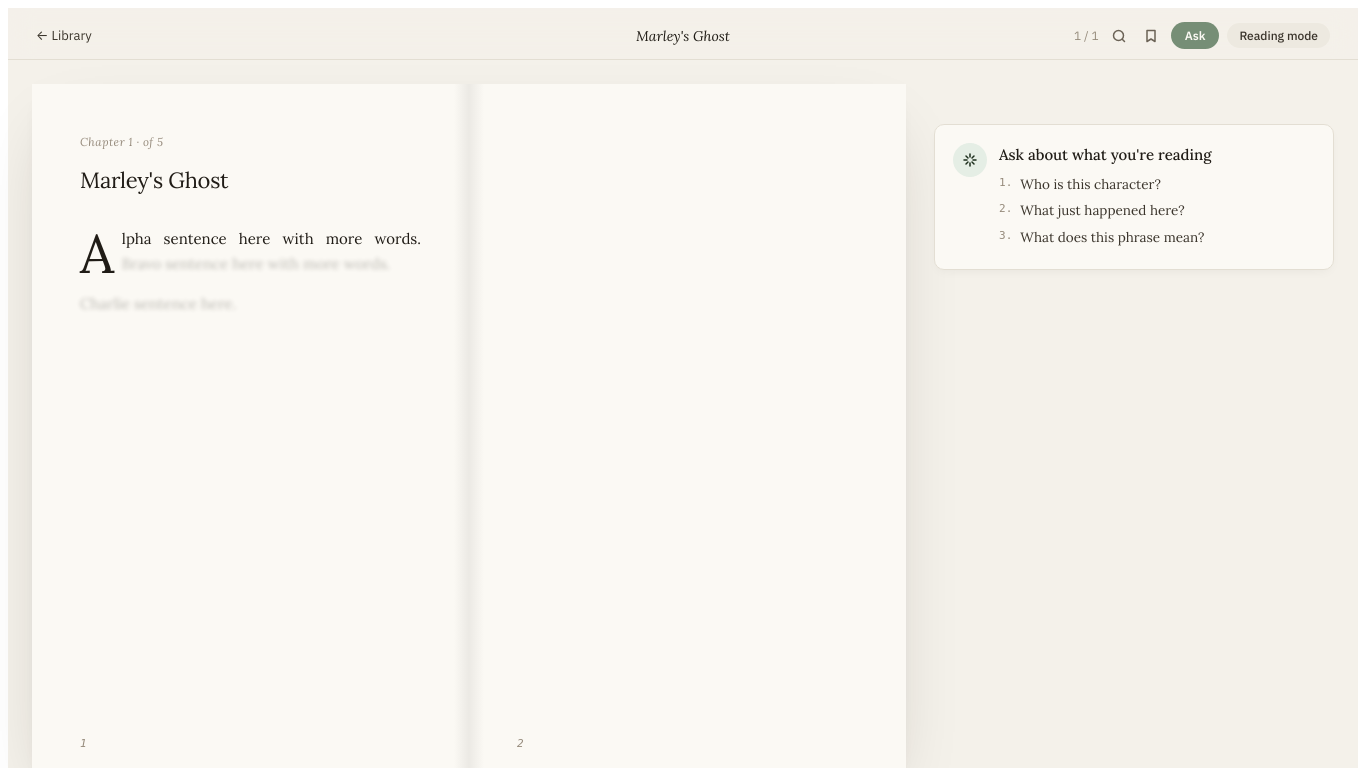
it: ReadingScreen — slice R4 reading mode integration › toggling off from on removes chrome and restores margin visibility
The width and height of the screenshot is (1366, 768).
Click the button "Reading mode": point(1279, 36) [1227,23,1330,48]
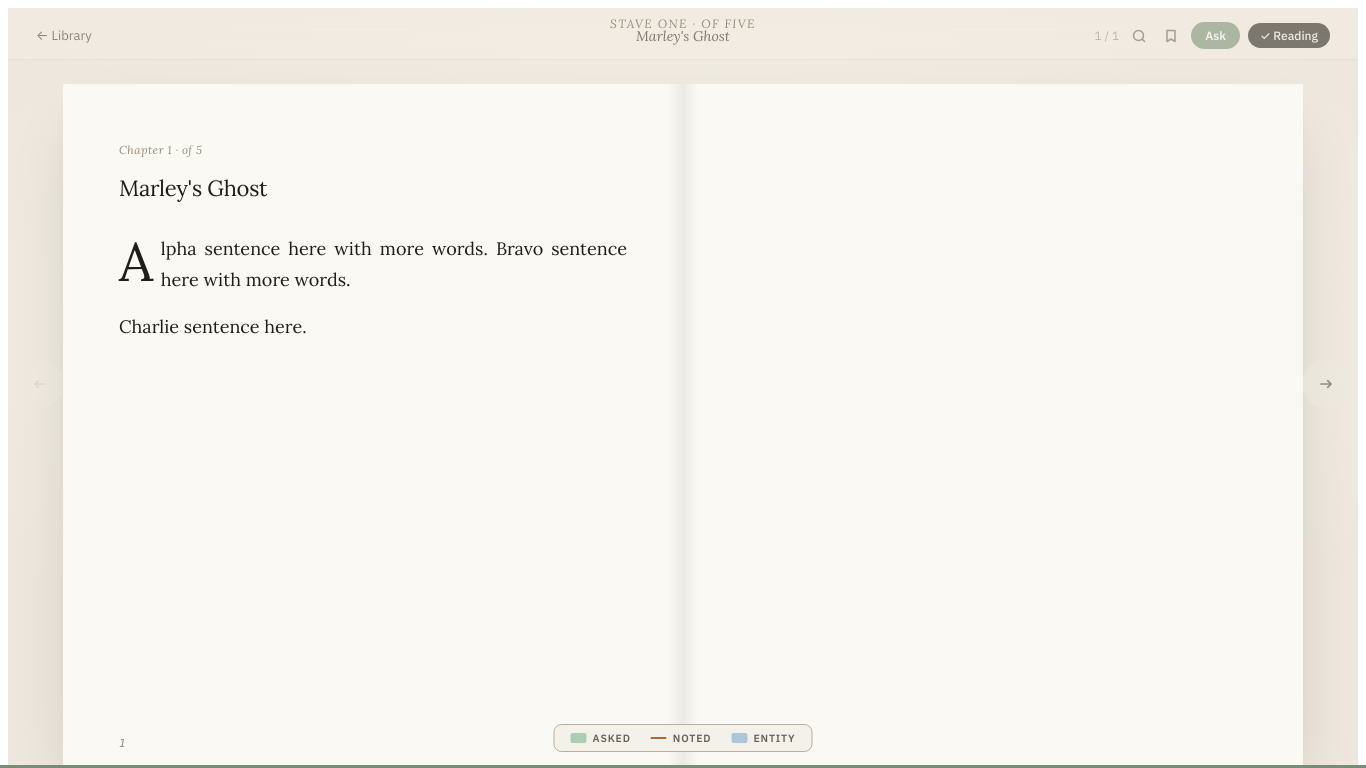
Click the button with aria-label "reading mode": point(1289, 36) [1248,23,1330,48]
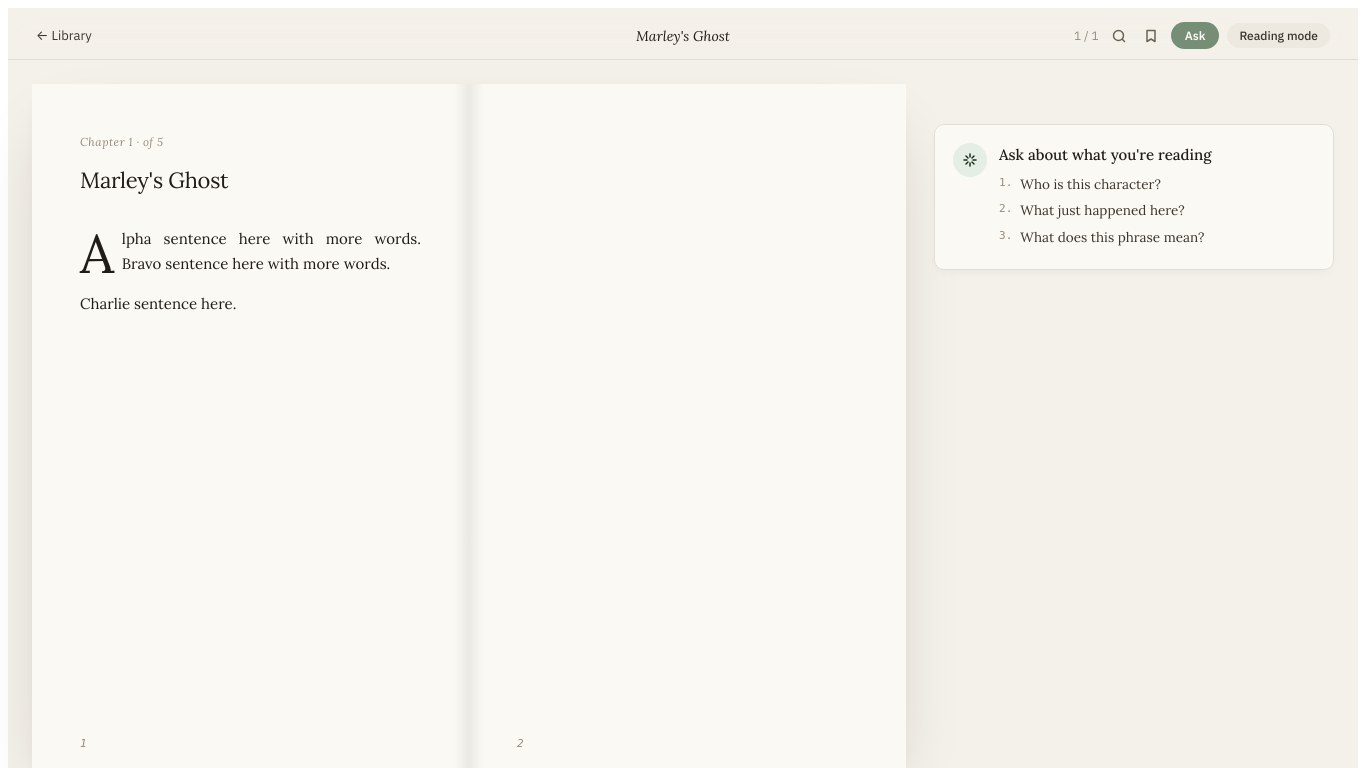
Now the text with test id "pacing-label" is gone
Now the element with test id "reading-mode-legend" is gone
